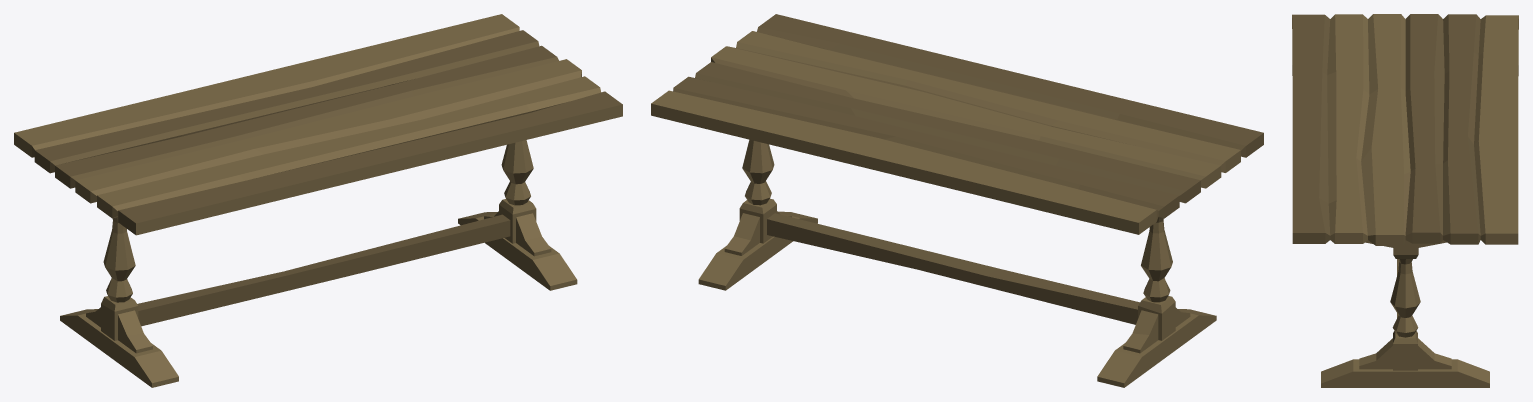
Rendered from Table_1.fbx.
3 renders of one model, left to right at view 1: azimuth 30°, elevation 25°; view 2: azimuth 150°, elevation 25°; view 3: azimuth 270°, elevation 25°, orthographic. The views are drawn at different scales.
Visible parts, largest first — view 1: Table_1; view 2: Table_1; view 3: Table_1.
Part boxes in pixels (left/top/right/bottom): Table_1: left=14, top=14, right=622, bottom=387; Table_1: left=651, top=14, right=1263, bottom=387; Table_1: left=1292, top=14, right=1518, bottom=387.
Size of the model in its own units: 212 by 75.5 by 91.96.
